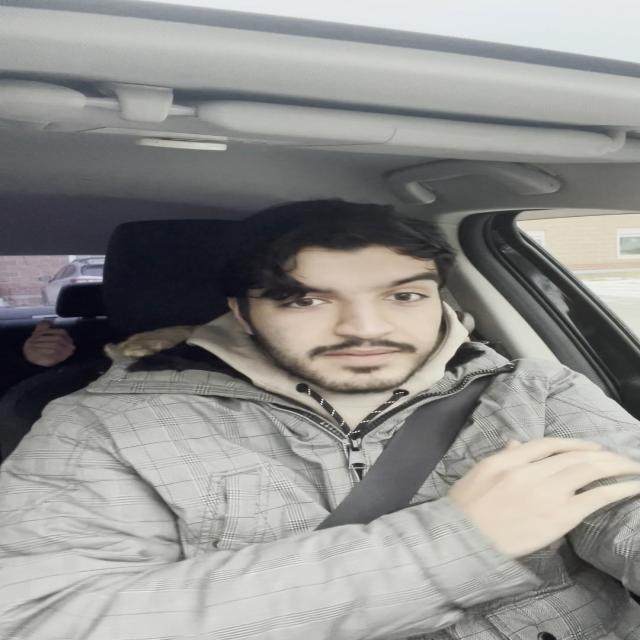drinking: (121, 381, 639, 640)
